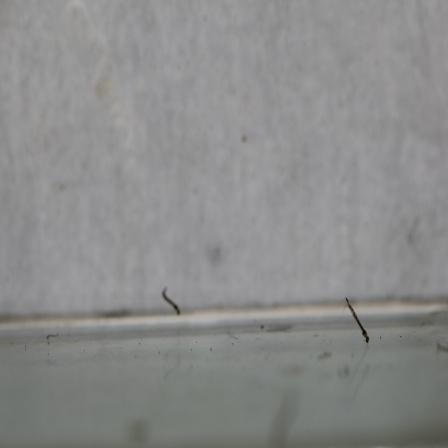Jentik-Nyamuk: (343, 295, 374, 346)
